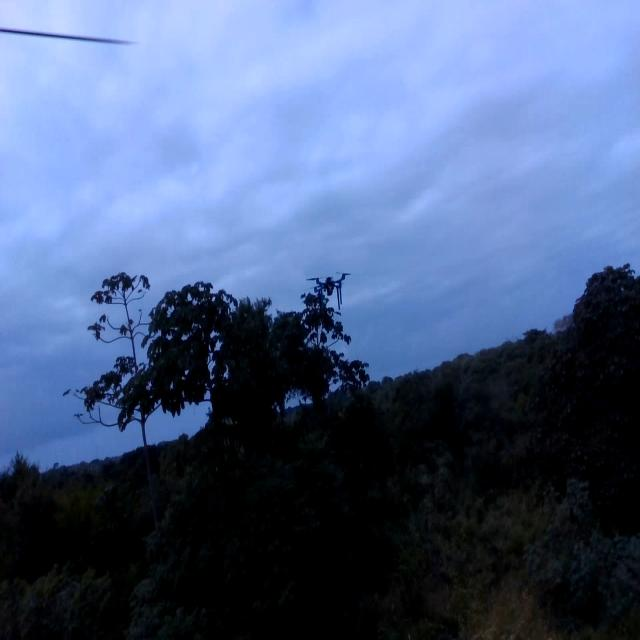-uav-: (296, 261, 366, 317)
